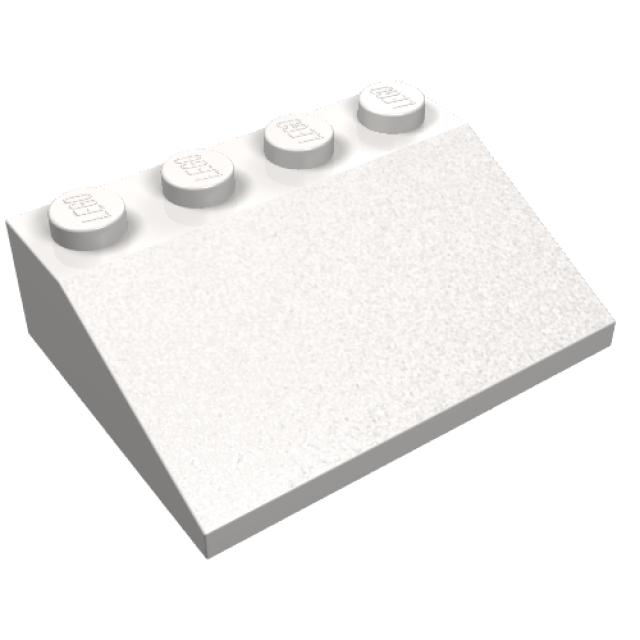White_Medium: (4, 79, 617, 562)
